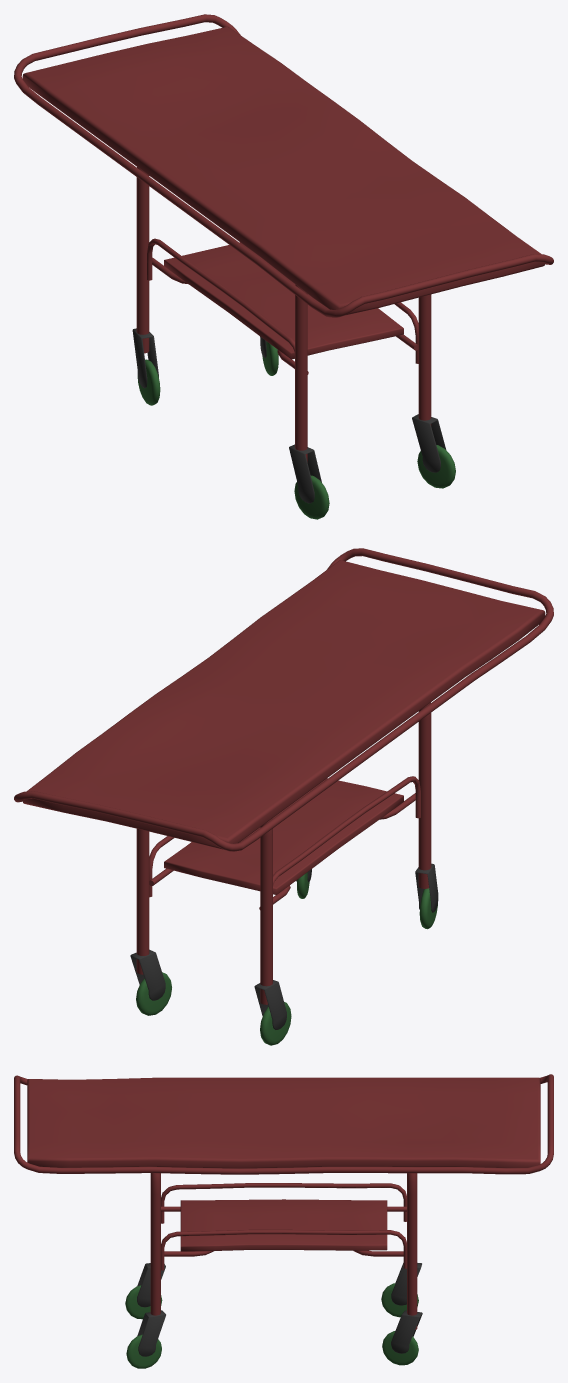
File: gurney.001.fbx
3 views of the same model, one above another, from view 1: azimuth 30°, elevation 25°; view 2: azimuth 150°, elevation 25°; view 3: azimuth 270°, elevation 25° (orthographic). The views are drawn at different scales.
Parts seen in each view (by area): view 1: Cube; view 2: Cube; view 3: Cube.
Boxes of the visible parts, bbox=[...] form: Cube: bbox=[14, 14, 553, 519]; Cube: bbox=[14, 548, 553, 1045]; Cube: bbox=[14, 1074, 553, 1368].
Size of the model in its own units: 80.49 by 100 by 210.
